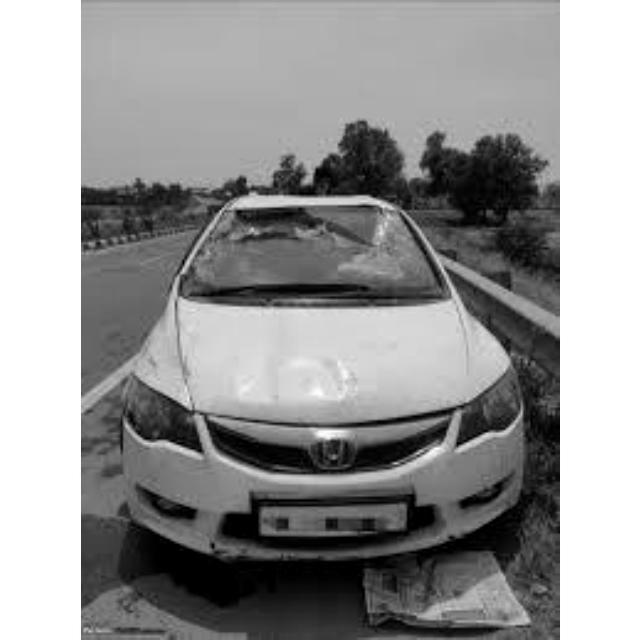Front-windscreen-damage: (164, 191, 472, 312)
bonnet-dent: (189, 303, 495, 433)
